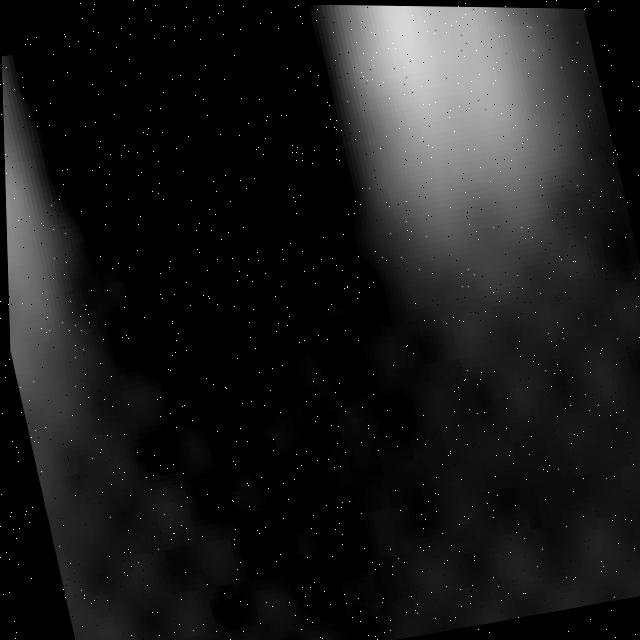person: (300, 4, 599, 309), (2, 53, 129, 564)
